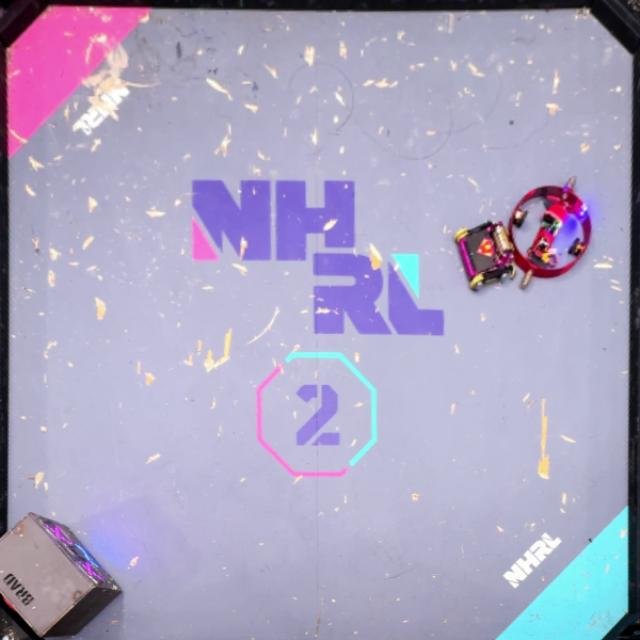housebot: (0, 511, 123, 639)
robot: (508, 176, 593, 290), (455, 220, 518, 291)
